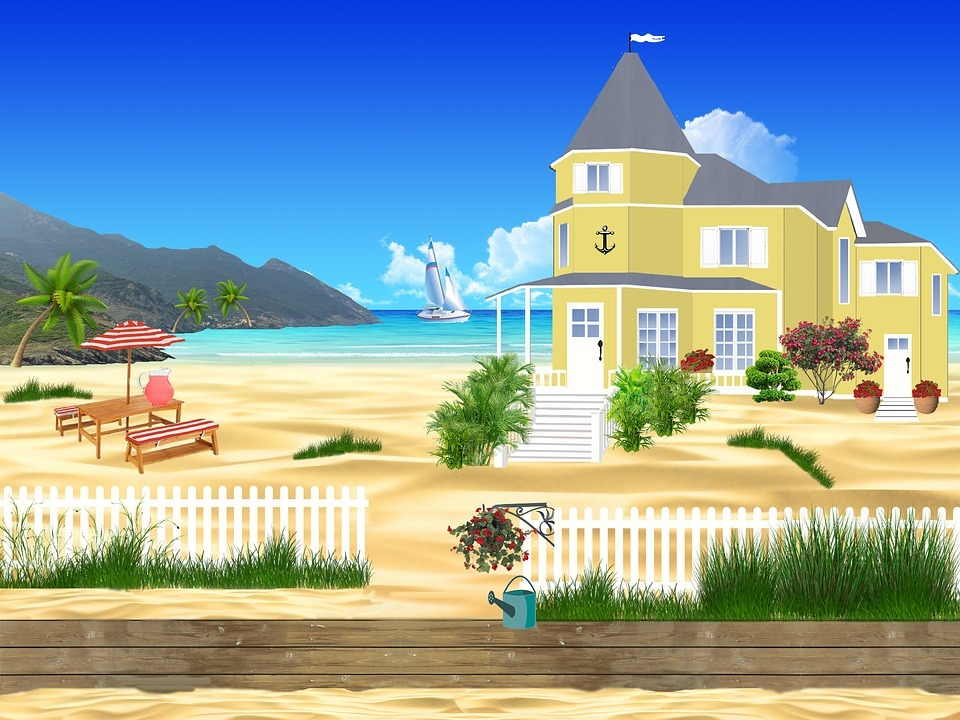boat: (405, 232, 473, 328)
diningtable: (65, 377, 190, 448)
pottedplant: (907, 371, 949, 418), (843, 373, 882, 416)
